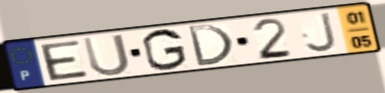2: (251, 17, 294, 61)
D: (185, 23, 237, 68)
E: (37, 39, 91, 82)
G: (140, 27, 190, 72)
J: (304, 11, 340, 54)
U: (80, 33, 133, 79)
